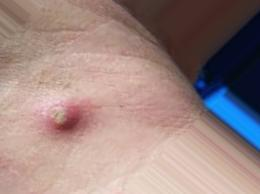Spider: (40, 94, 90, 136)
